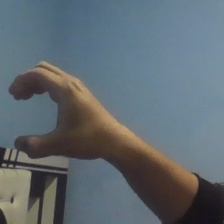C: (6, 58, 109, 164)
